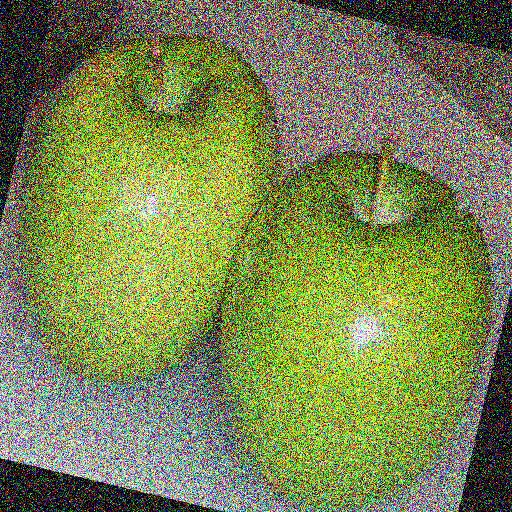fruit: (55, 129, 407, 512), (0, 63, 67, 369)
